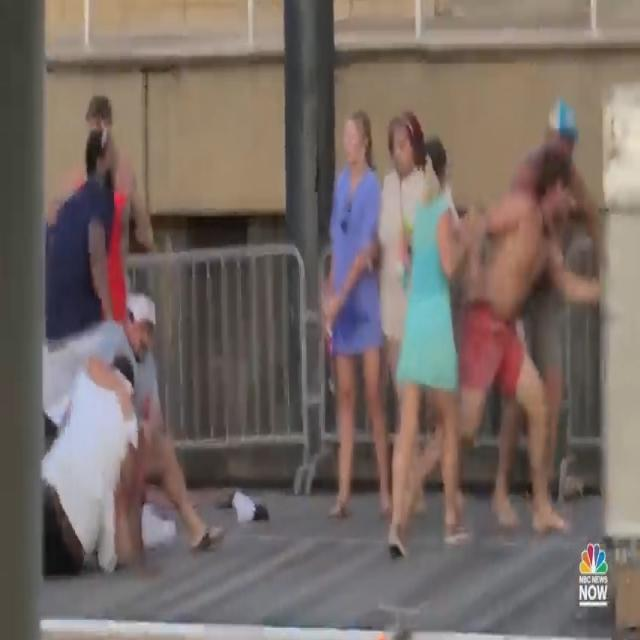fight: (42, 239, 232, 581)
non-fight: (312, 88, 598, 540)
